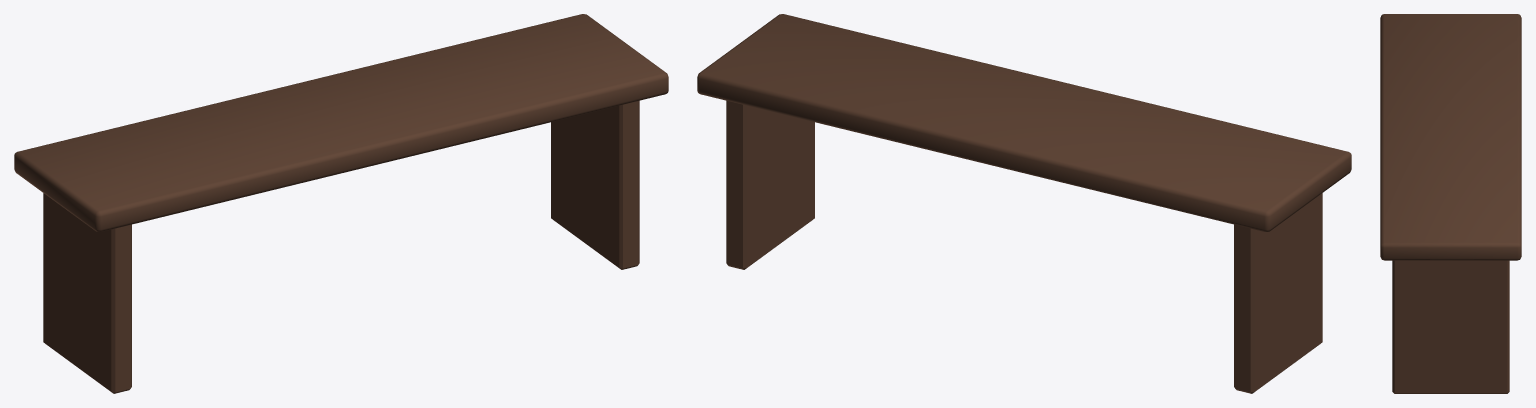
Rendered from i_bench_3.glb.
The picture shows the model from 3 angles, left to right: view 1: azimuth 30°, elevation 25°; view 2: azimuth 150°, elevation 25°; view 3: azimuth 270°, elevation 25°; orthographic projection. The views are drawn at different scales.
Parts seen in each view (by area): view 1: o, o.001, o.002; view 2: o, o.001, o.002; view 3: o, o.002.
Part boxes in pixels (x1=…): o: x1=14, y1=14, x2=668, y2=231; o.001: x1=43, y1=193, x2=131, y2=393; o.002: x1=551, y1=100, x2=639, y2=269; o: x1=697, y1=14, x2=1351, y2=231; o.001: x1=1234, y1=193, x2=1322, y2=393; o.002: x1=726, y1=100, x2=814, y2=269; o: x1=1380, y1=14, x2=1521, y2=260; o.002: x1=1392, y1=260, x2=1509, y2=393.
Bounding box in the file's own units: 1.4 × 0.45 × 0.36.
